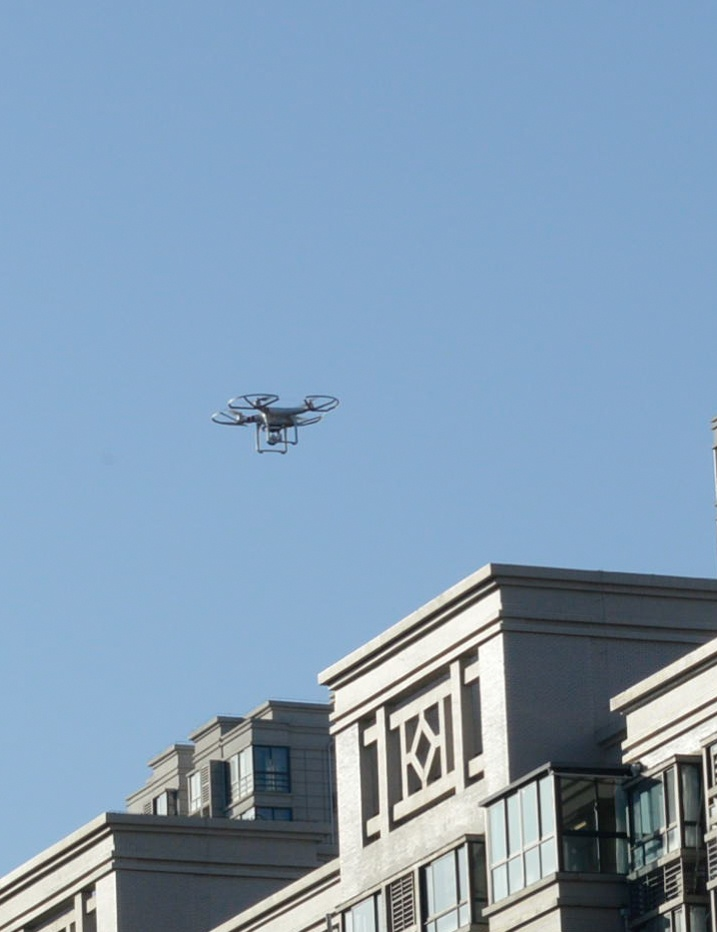DJI: (208, 391, 341, 459)
